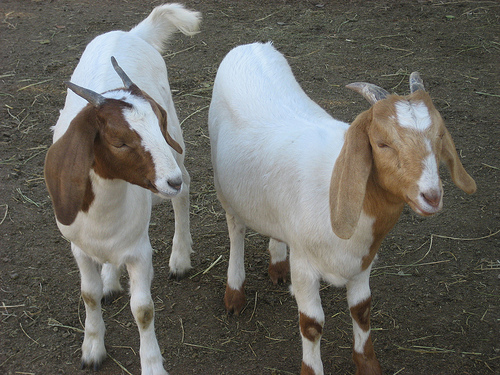goat: (207, 41, 479, 375), (42, 3, 203, 375)
